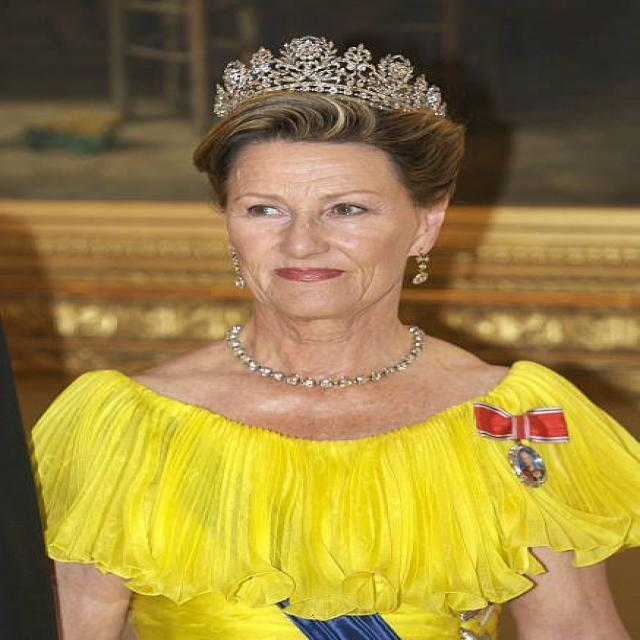Earring: (211, 227, 253, 294), (404, 236, 443, 292)
